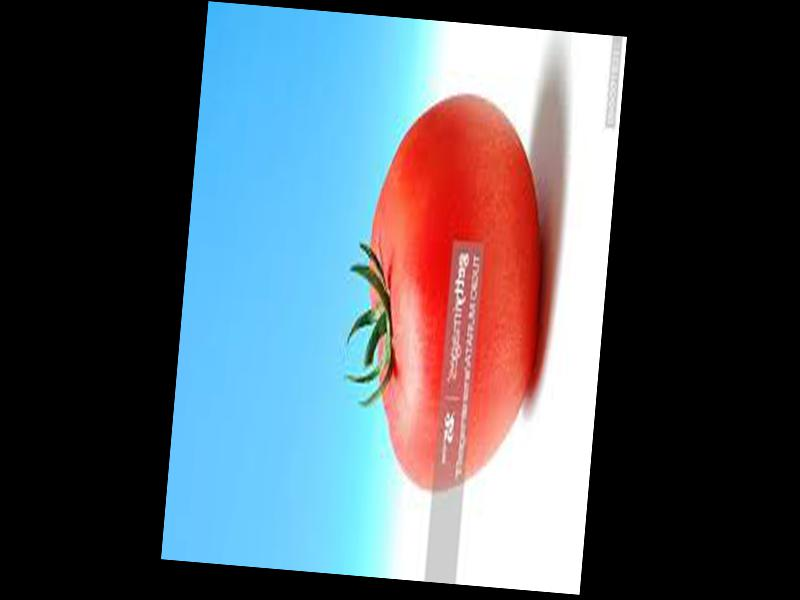Tomato: (350, 90, 554, 501)
